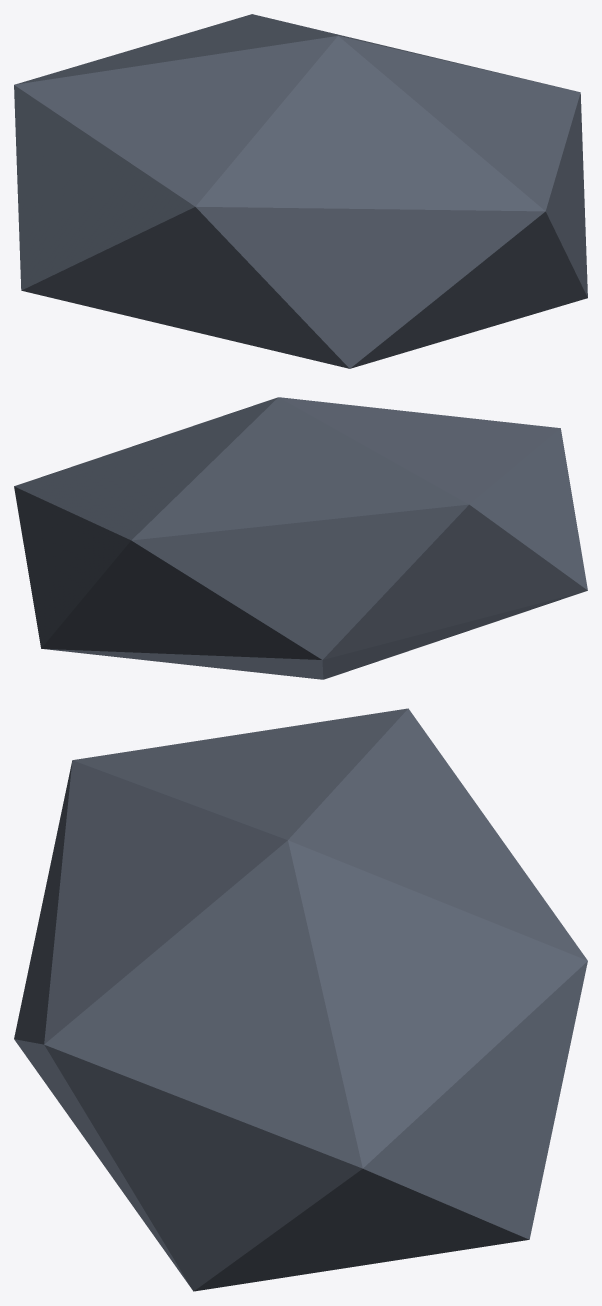
File: EXT_SouthCliff_01_Shard_0.glb
3 renders of one model, top to bottom at view 1: azimuth 30°, elevation 25°; view 2: azimuth 150°, elevation 25°; view 3: azimuth 270°, elevation 25°, orthographic. The views are drawn at different scales.
Parts seen in each view (by area): view 1: EXT_SouthCliff_01_Shard_0; view 2: EXT_SouthCliff_01_Shard_0; view 3: EXT_SouthCliff_01_Shard_0.
Part boxes in pixels (box(x1,y1,x2,y2)): EXT_SouthCliff_01_Shard_0: box(14, 14, 587, 368); EXT_SouthCliff_01_Shard_0: box(14, 397, 587, 679); EXT_SouthCliff_01_Shard_0: box(14, 708, 587, 1291).
Bounding box in the file's own units: 2.14 × 1.01 × 1.48.
